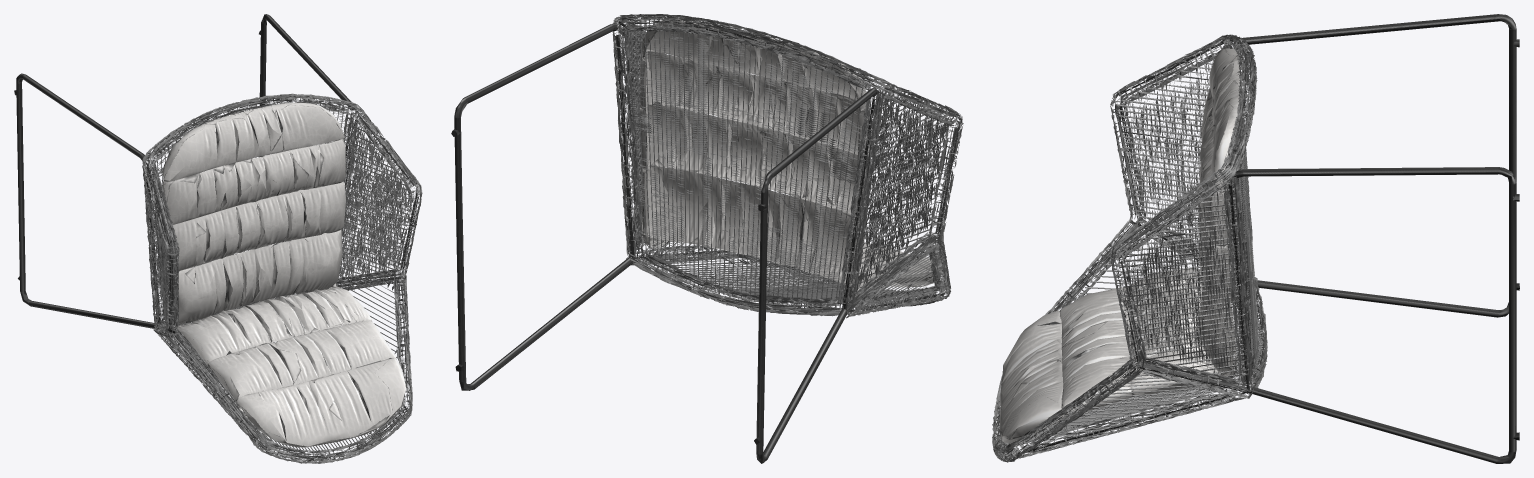
The picture shows the model from 3 angles, left to right: view 1: azimuth 30°, elevation 25°; view 2: azimuth 150°, elevation 25°; view 3: azimuth 270°, elevation 25°; orthographic projection. The views are drawn at different scales.
Bounding box in the file's own units: 0.6035 × 0.6522 × 0.8383.
1 material, 1 textured.
